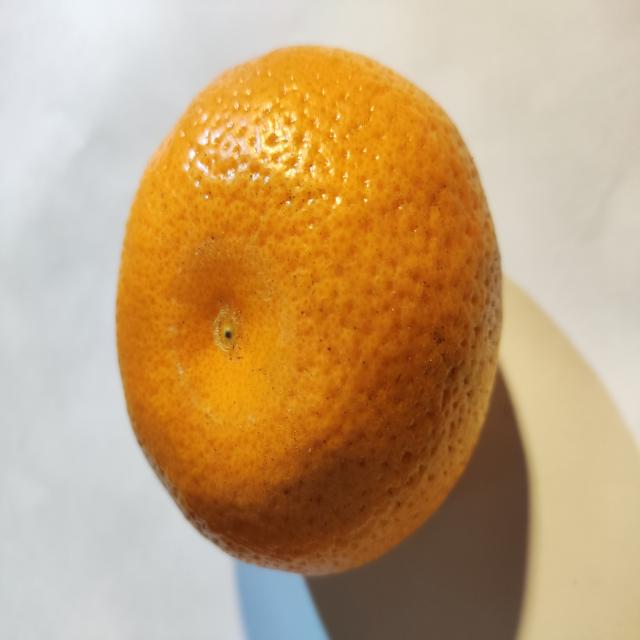orange: (117, 48, 501, 574)
